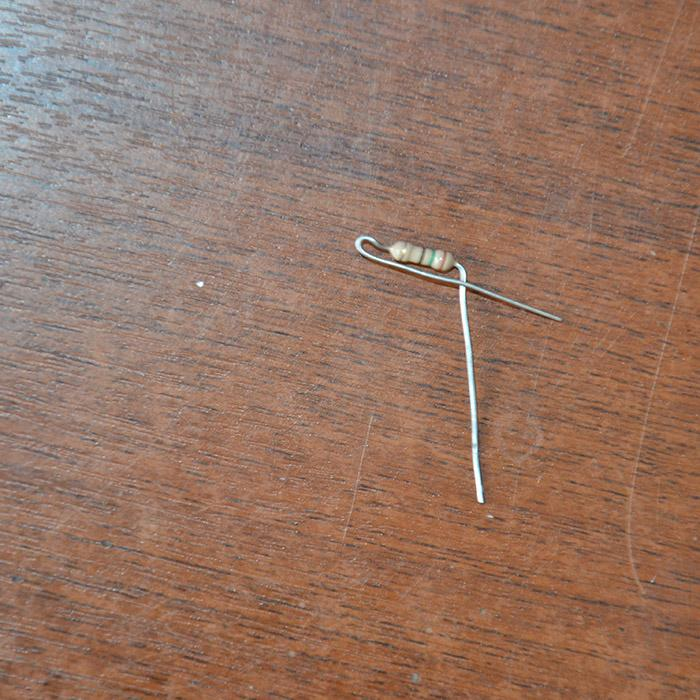resistor: (388, 240, 454, 272)
